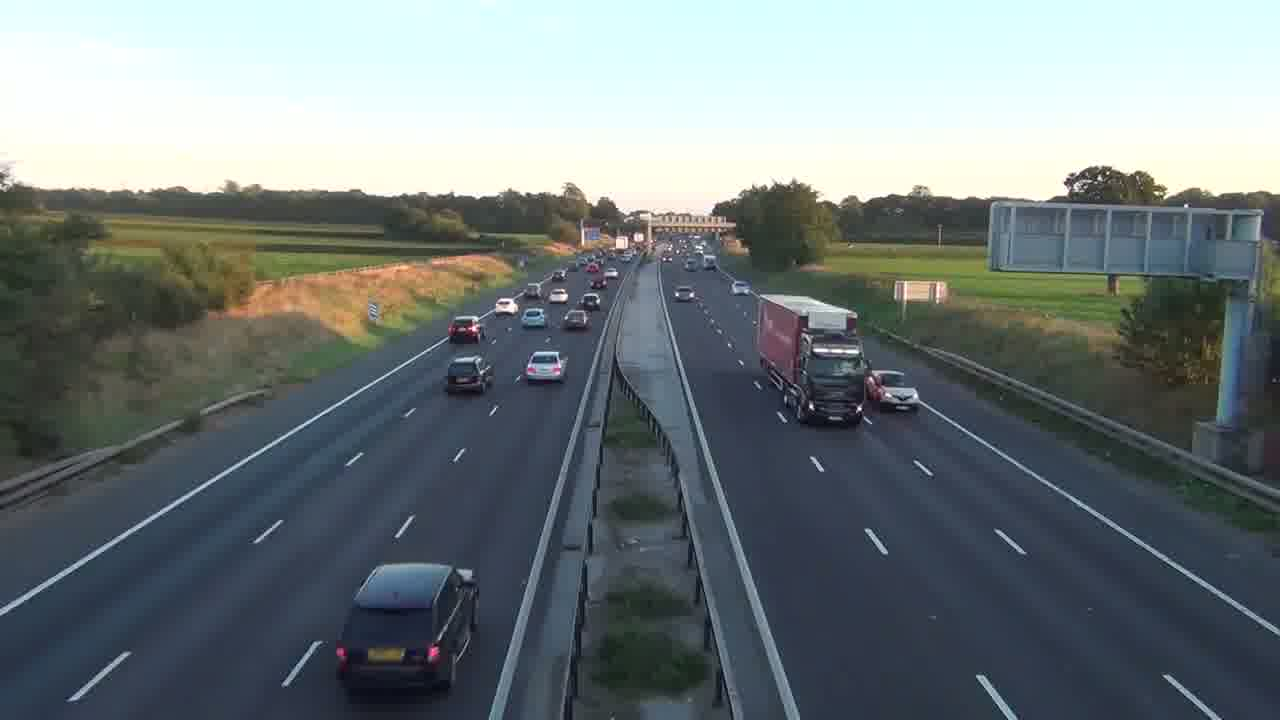car: (334, 560, 481, 695), (445, 354, 495, 393), (523, 350, 566, 385), (561, 307, 590, 330), (521, 306, 546, 328), (673, 284, 697, 301), (732, 280, 753, 295)
truck: (754, 293, 870, 426)
